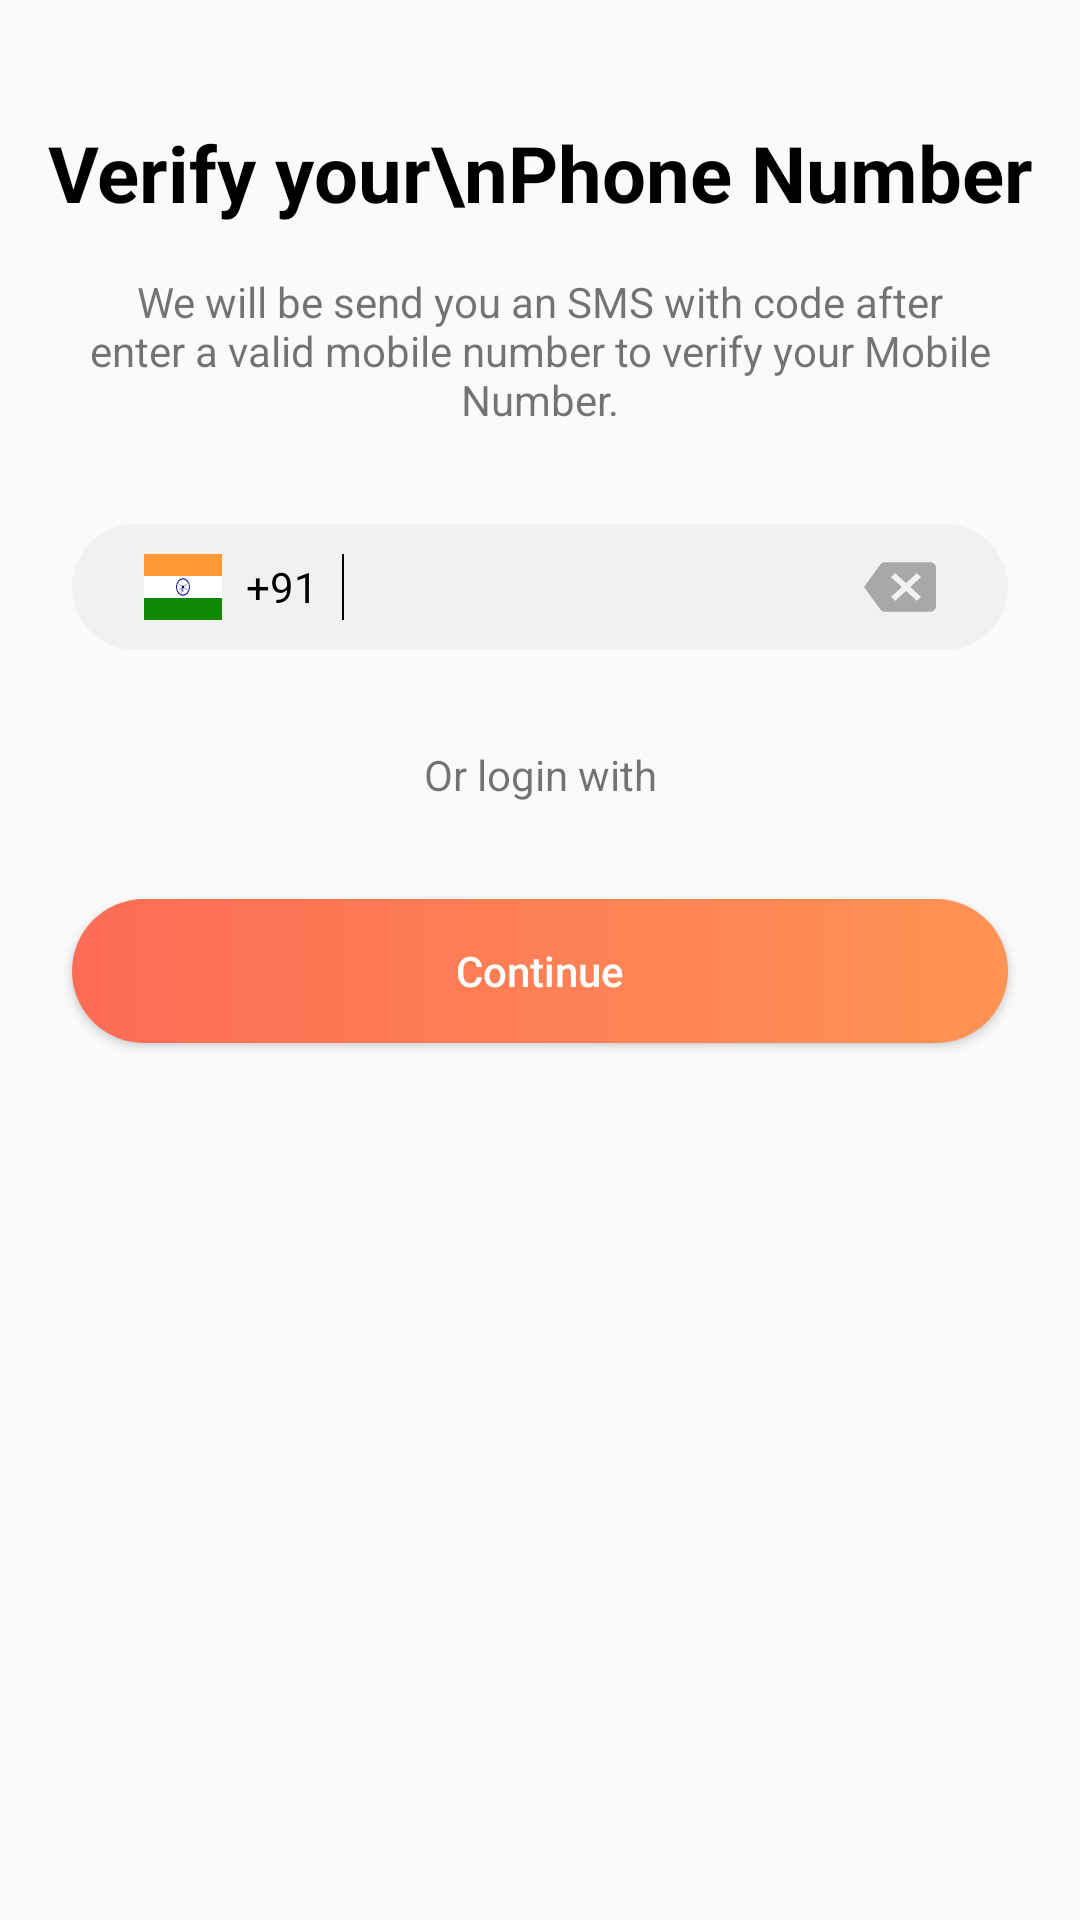

Point at icon controls on the screen. Image size 1080×1920, points as (x=x, y=y).
backspace: (x=900, y=587)
indian flag: (x=183, y=587)
